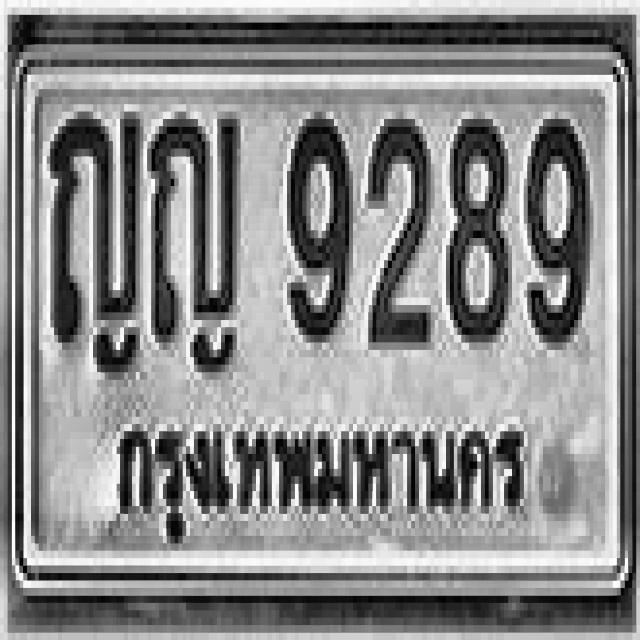license-plate: (14, 53, 627, 593)
